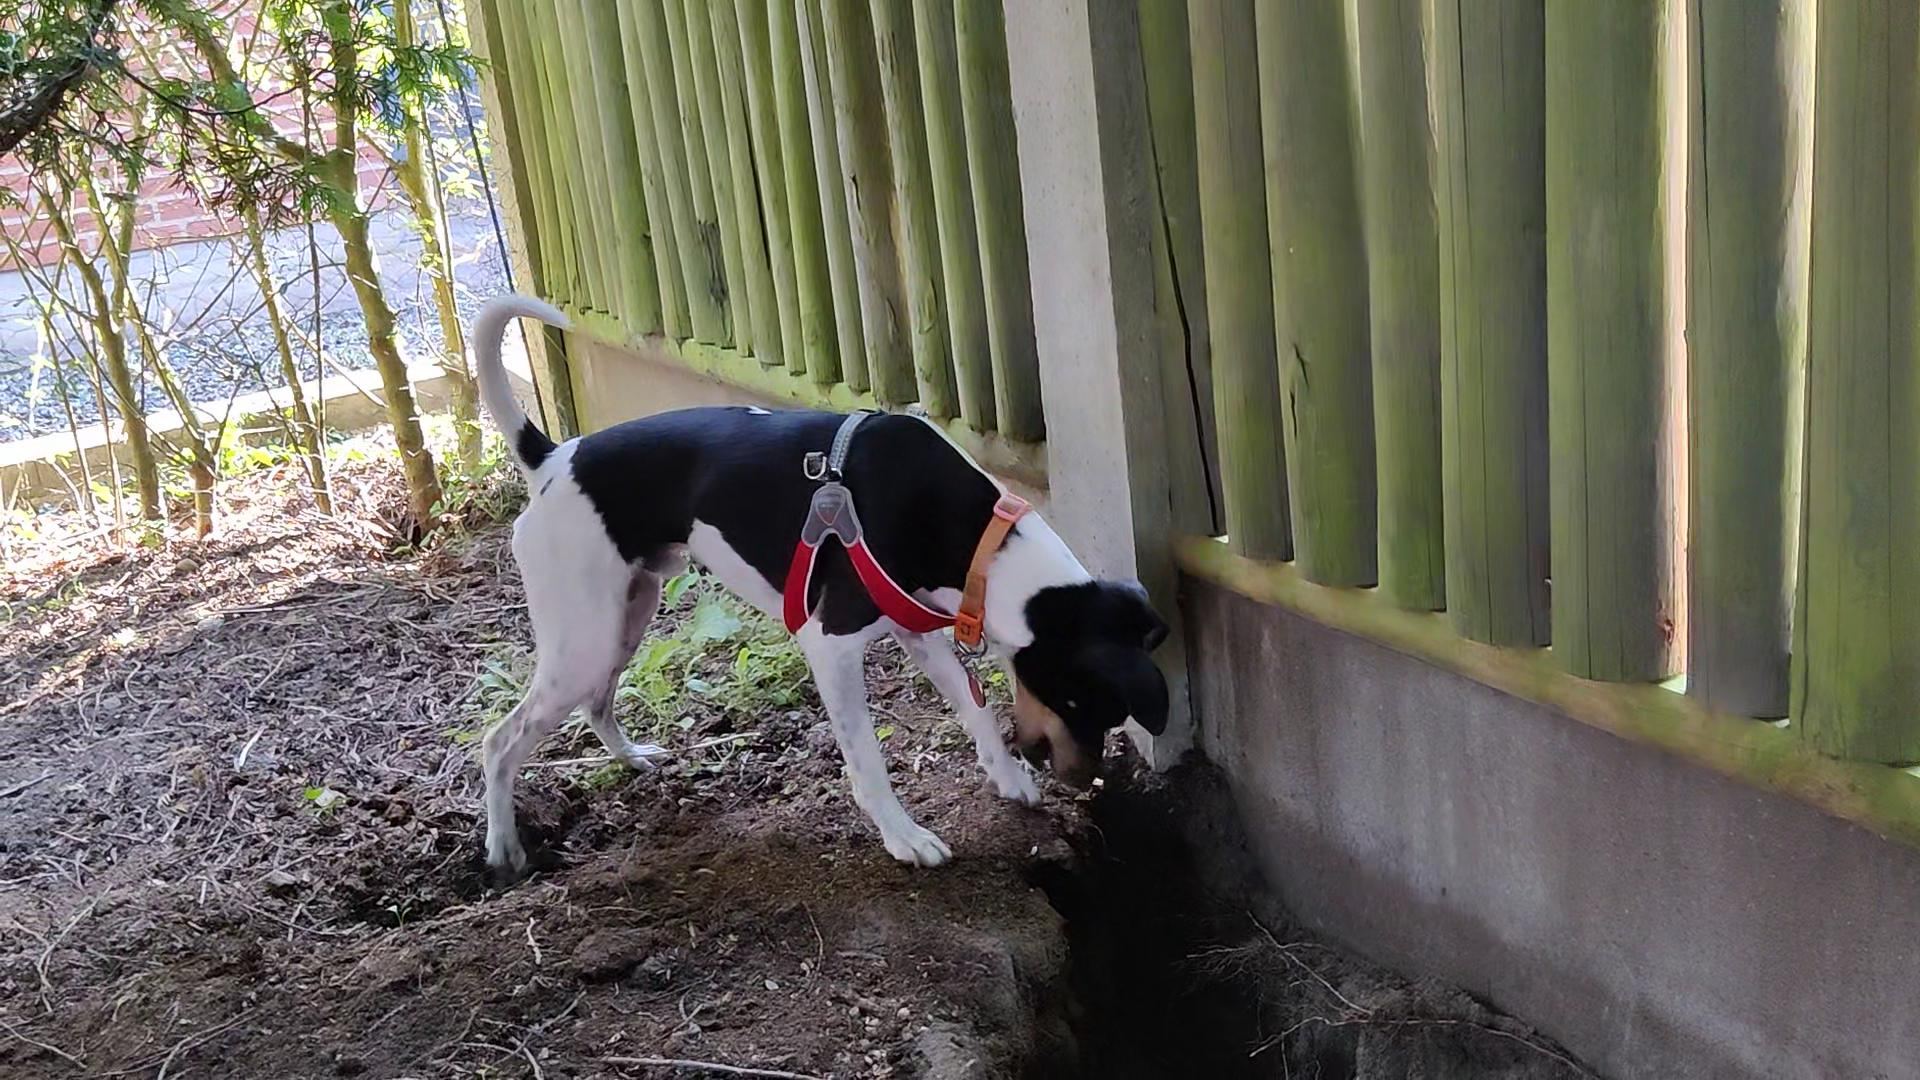Dog: (429, 262, 1203, 899)
